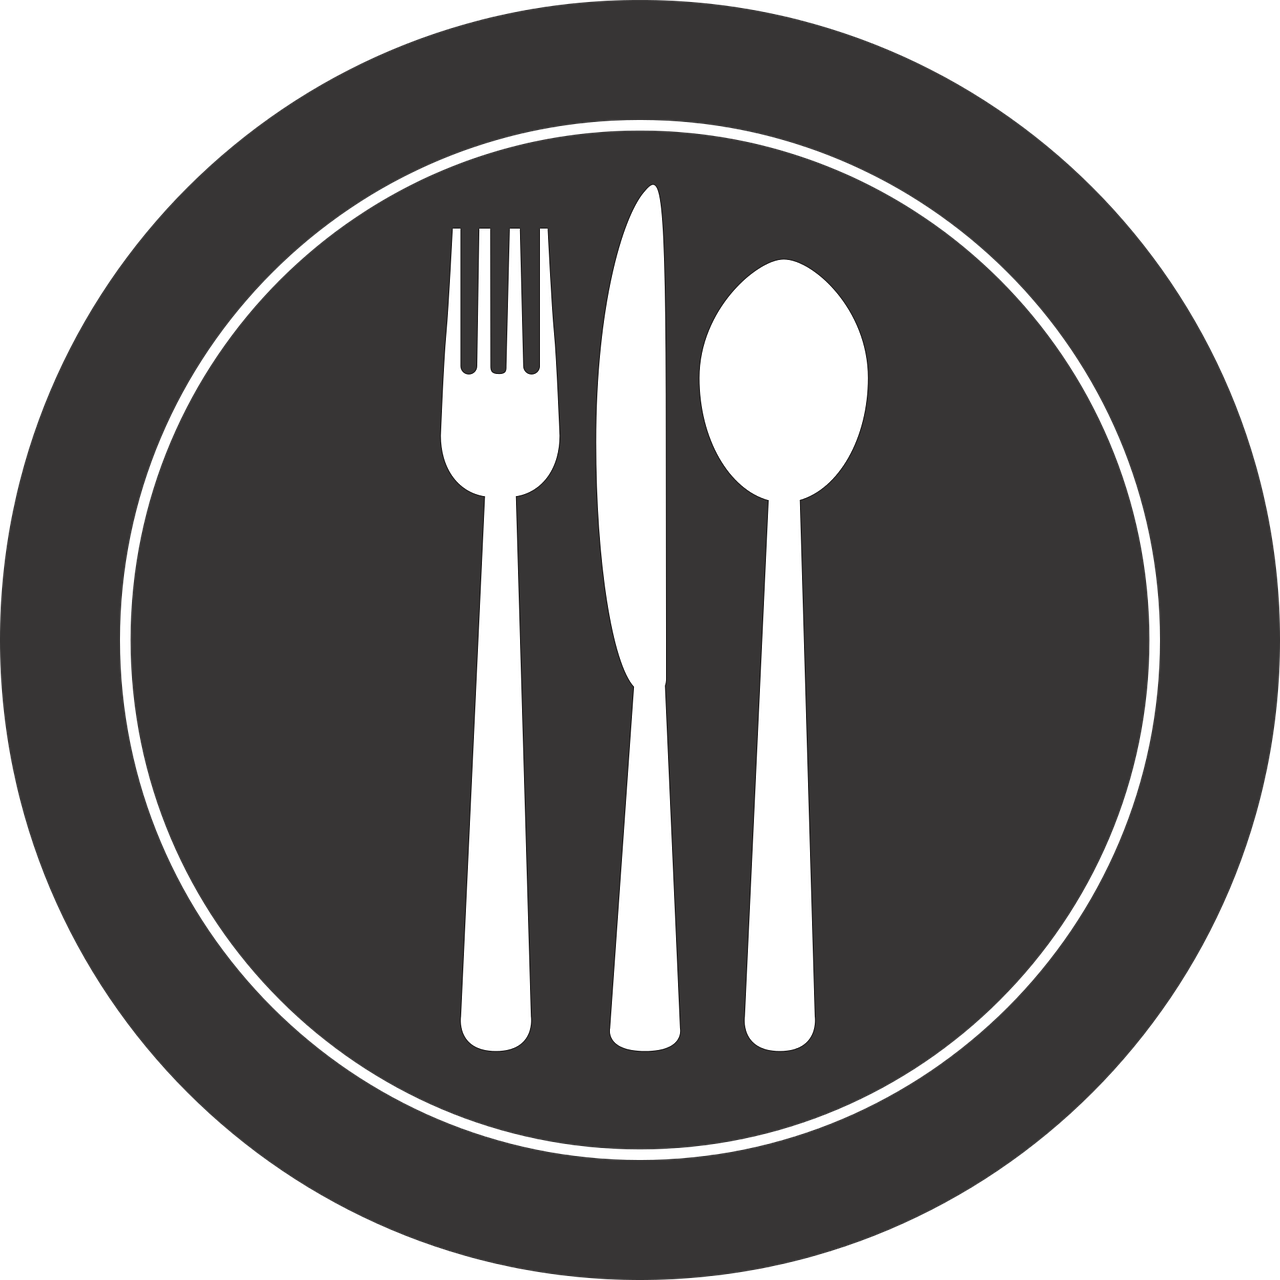knife: (577, 173, 687, 1055)
